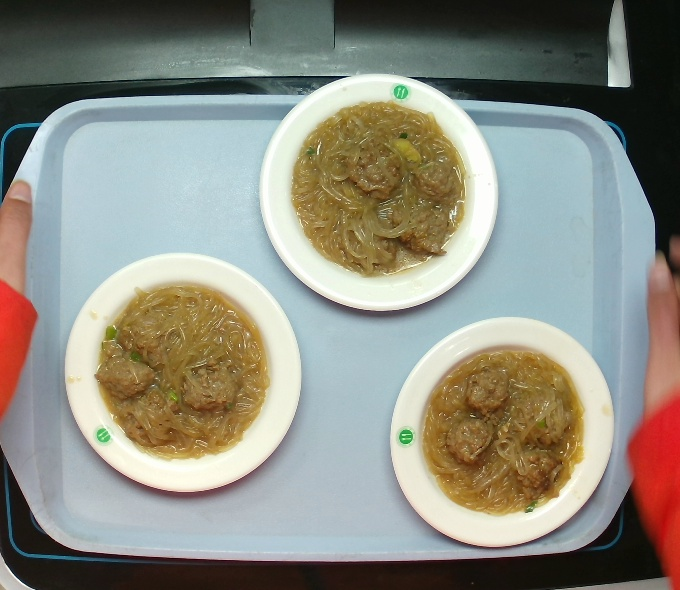wcq-FenSiNiuRouWan: (286, 93, 479, 282), (415, 339, 592, 522), (92, 279, 272, 458)
